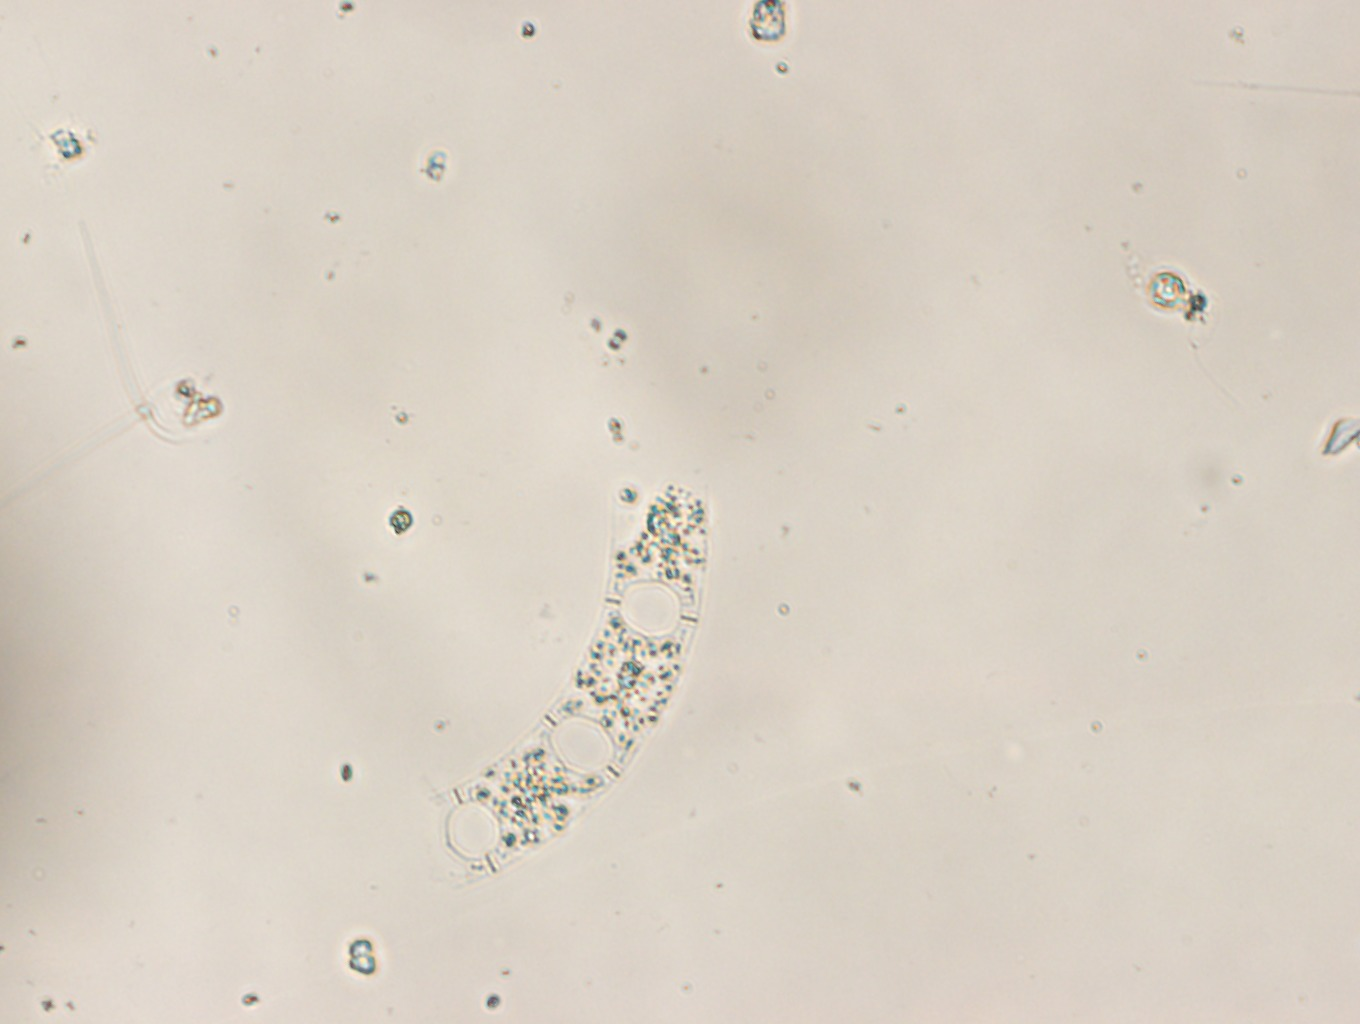eucampia: (442, 483, 706, 887)
